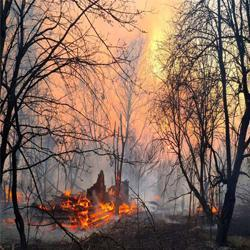fire: (77, 194, 137, 220)
